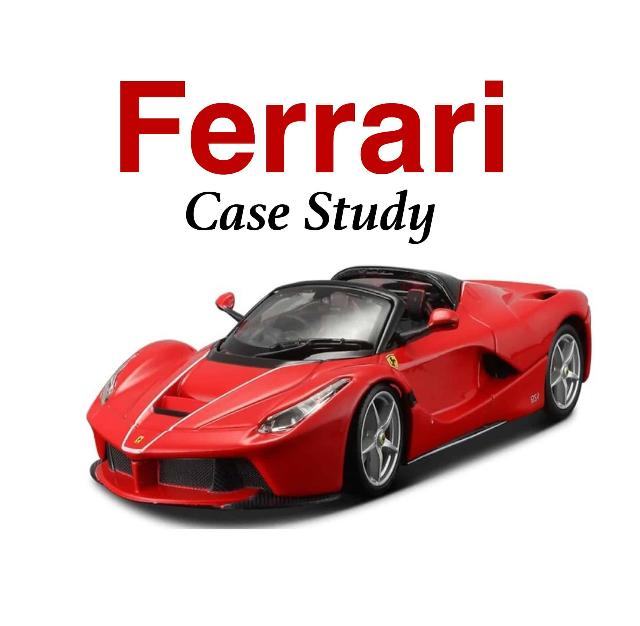ferrari: (85, 265, 592, 519)
